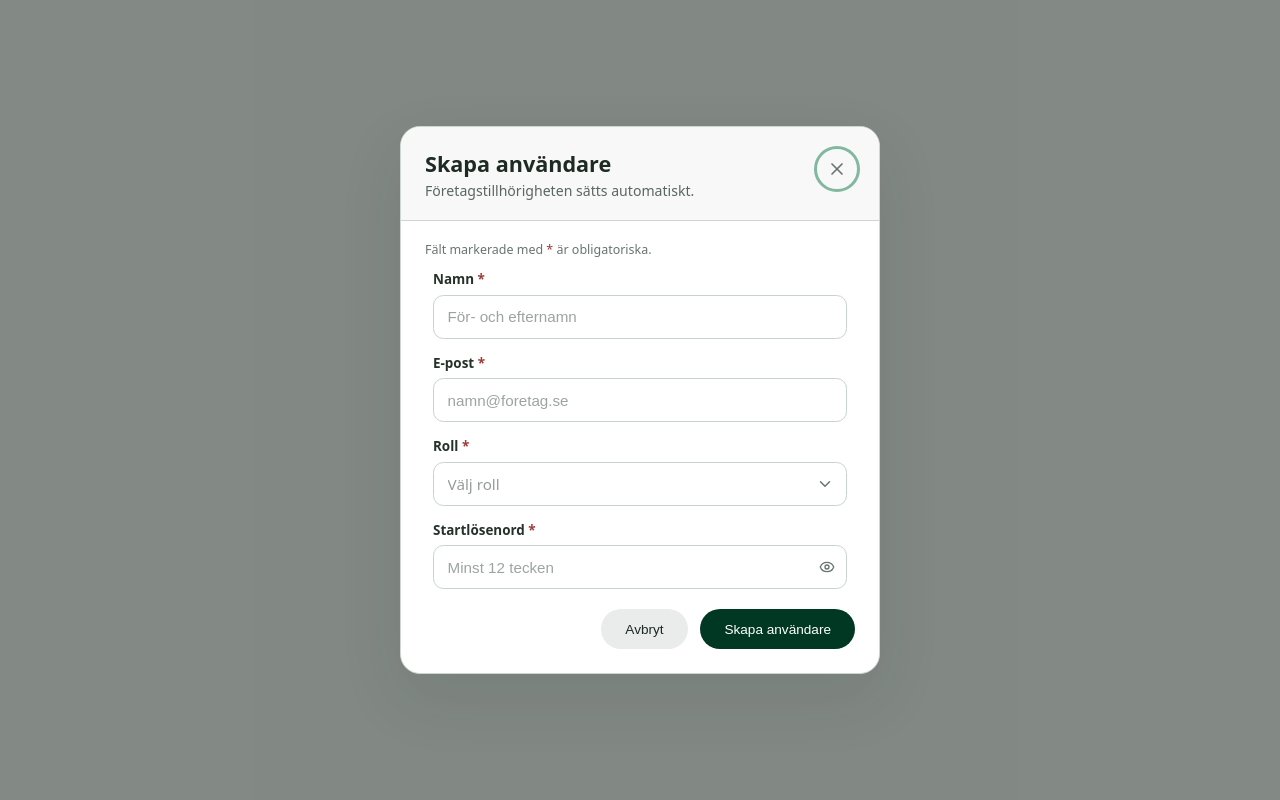
Test case: CreateUserModal › only offers Attestant and Initiator as roles, never admin
This screenshot has width=1280, height=800.
Click the dropdown labelled "Välj roll": (474, 484) 433,462 -> 847,506
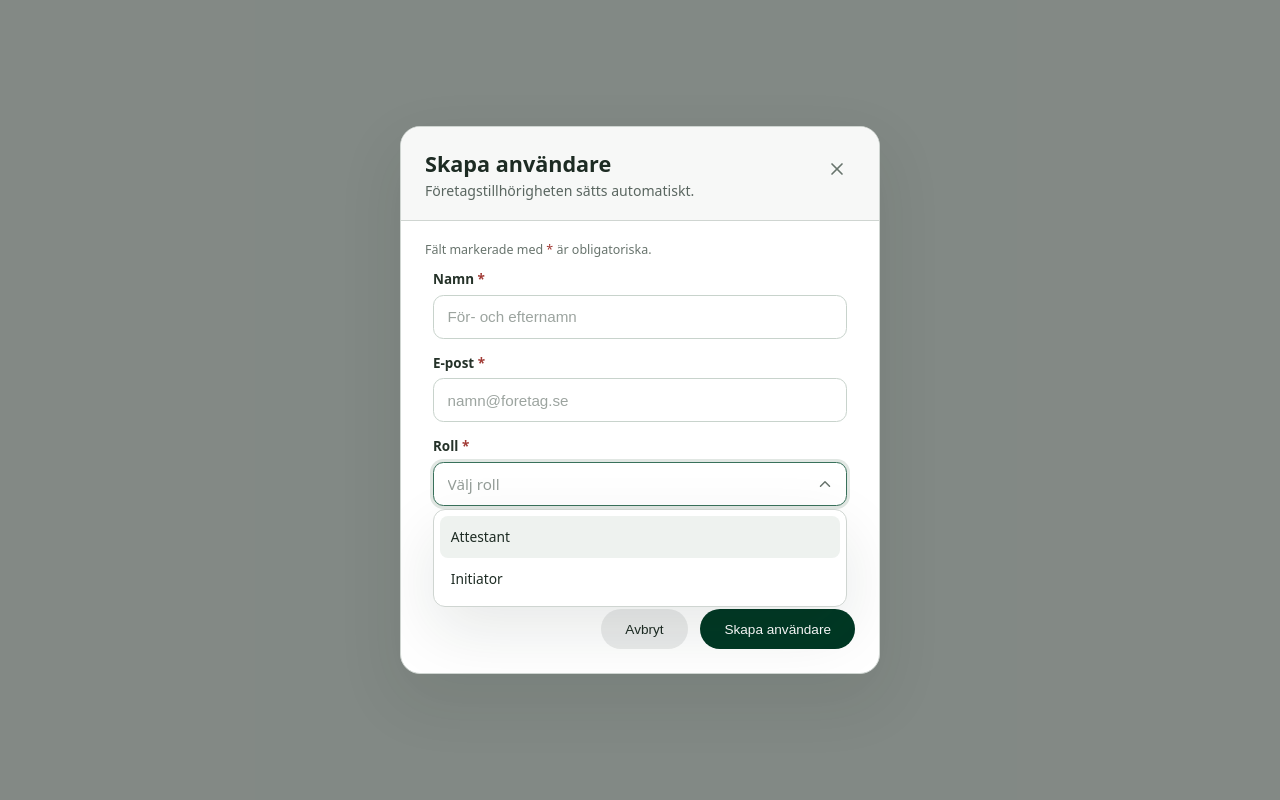
Expected: the options read "Attestant", "Initiator", in this order, 440,516 -> 840,558; 451,569 -> 503,588
